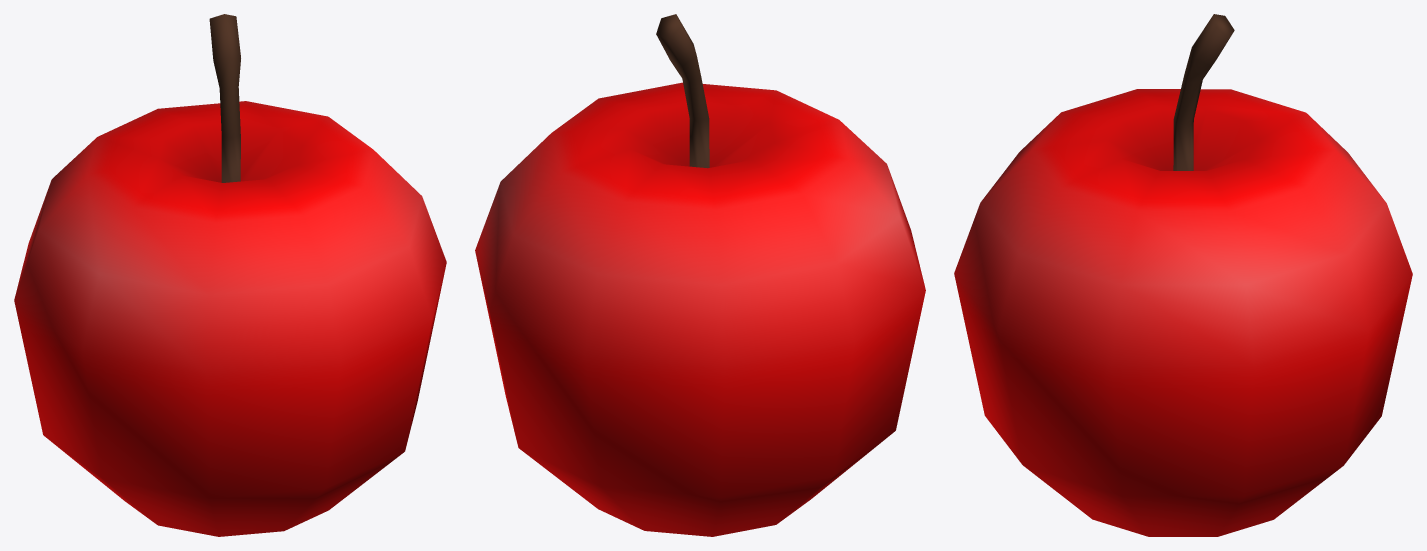
The model's file is CR_caf_Apple_001.FBX.
The picture shows the model from 3 angles, left to right: view 1: azimuth 30°, elevation 25°; view 2: azimuth 150°, elevation 25°; view 3: azimuth 270°, elevation 25°; orthographic projection. The views are drawn at different scales.
Parts seen in each view (by area): view 1: CR_caf_Apple_001; view 2: CR_caf_Apple_001; view 3: CR_caf_Apple_001.
Part boxes in pixels (left/top/right/bottom): CR_caf_Apple_001: left=14, top=14, right=446, bottom=536; CR_caf_Apple_001: left=475, top=14, right=925, bottom=536; CR_caf_Apple_001: left=954, top=14, right=1412, bottom=536.
Bounding box in the file's own units: 11.08 × 11.65 × 14.04.
